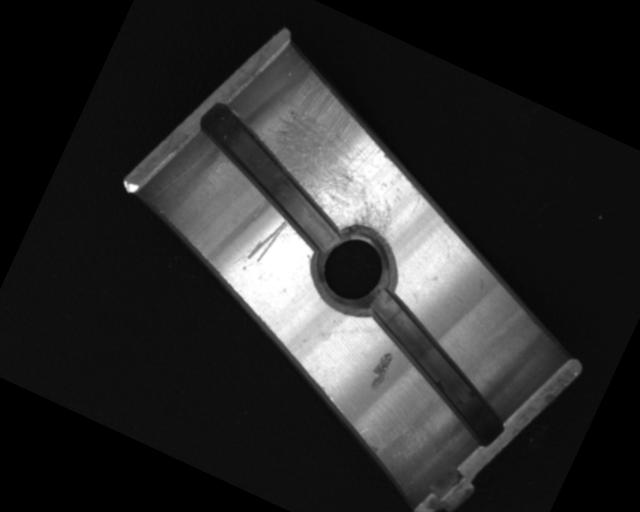bruise: (364, 347, 400, 395)
gap: (332, 283, 536, 449), (173, 99, 365, 253)
hole: (302, 217, 408, 322)
nick: (245, 210, 289, 268)
scratch: (246, 61, 449, 250)
